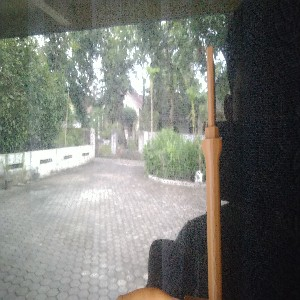obeng: (198, 46, 224, 300)
